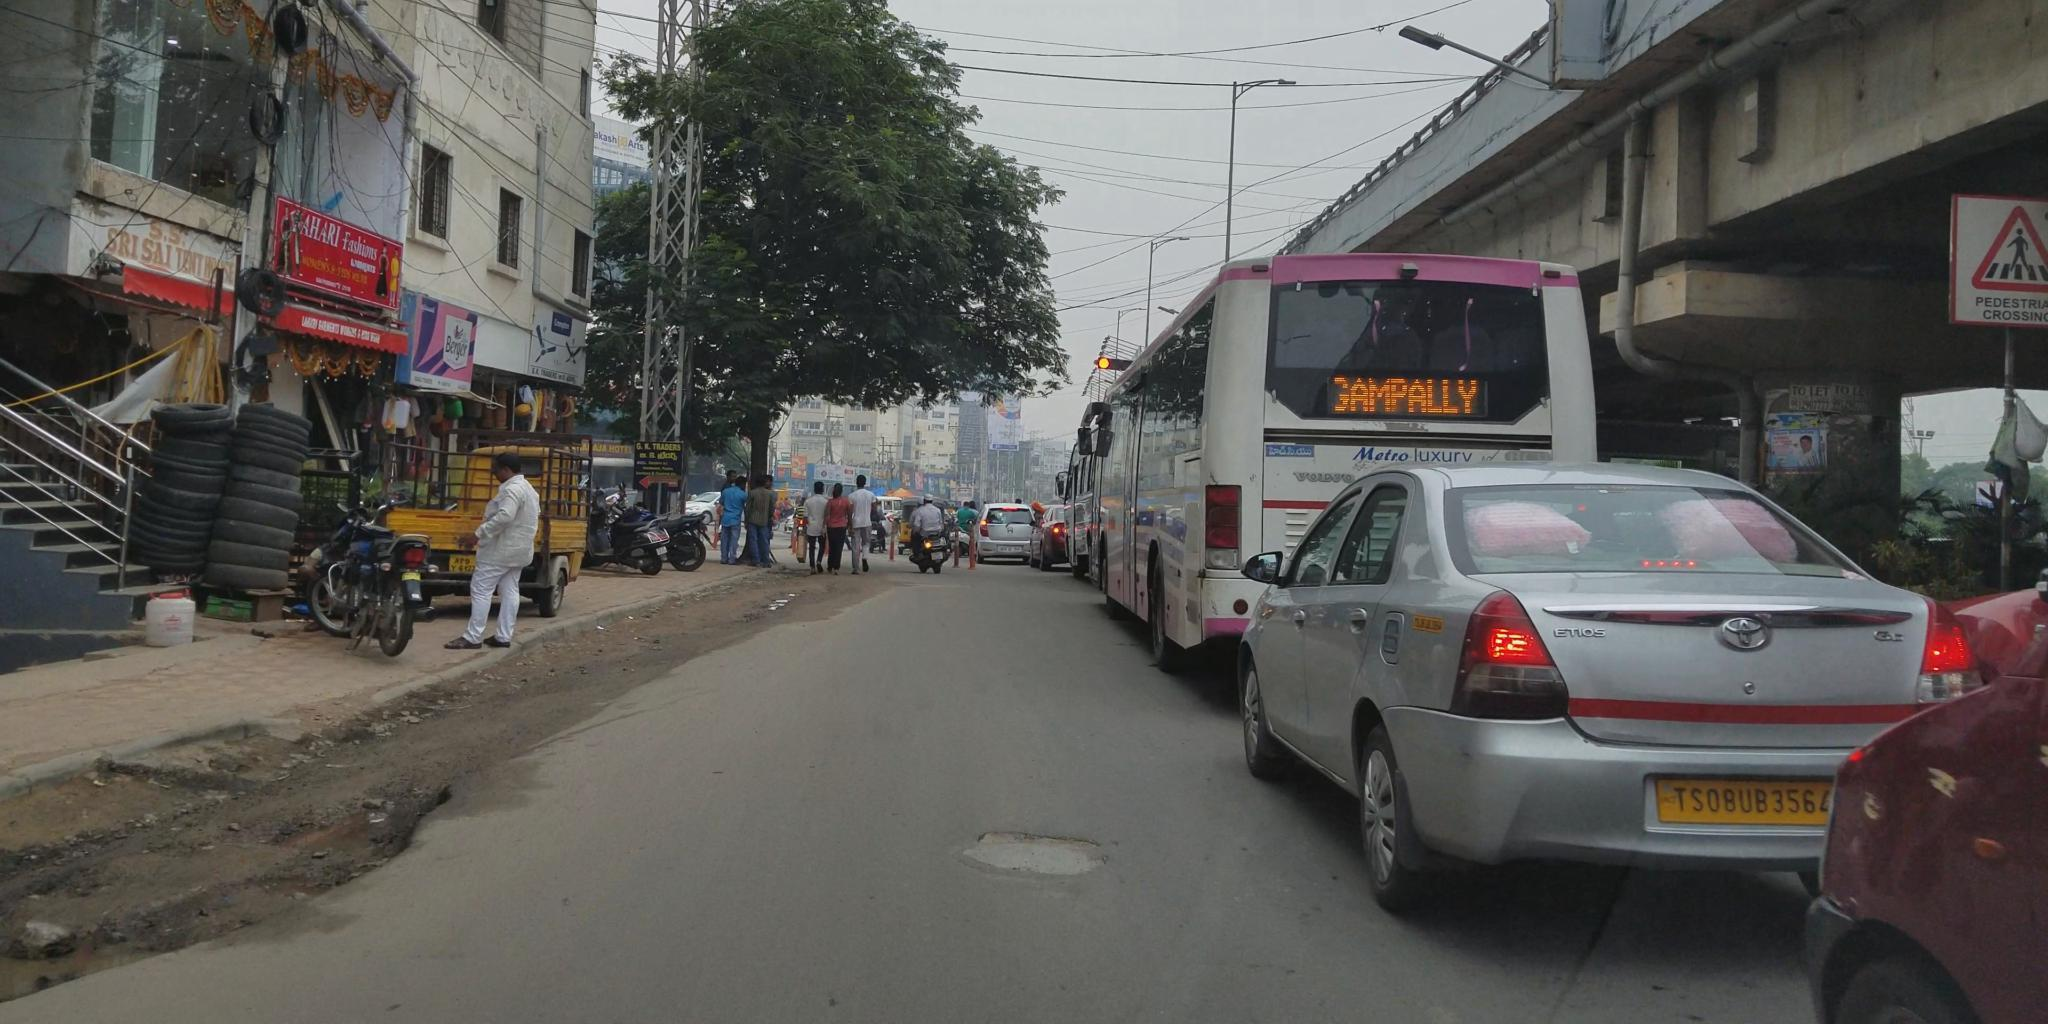off: (110, 0, 2048, 1024)
